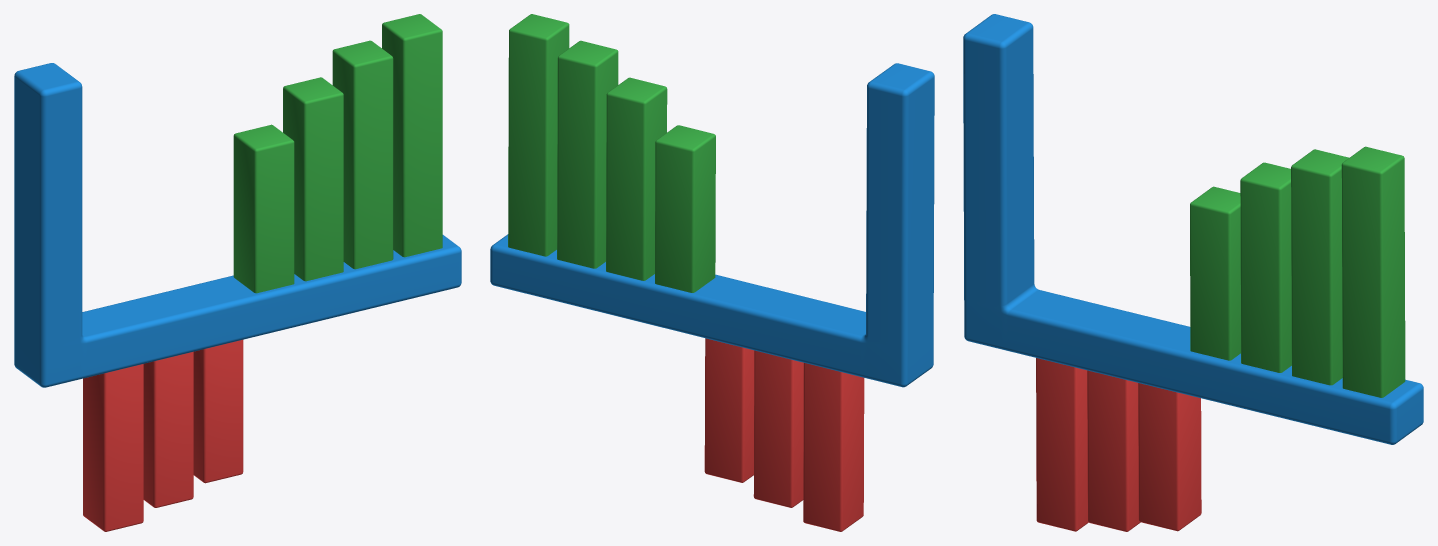
The model's file is graph3.glb.
The picture shows the model from 3 angles, left to right: view 1: azimuth 30°, elevation 25°; view 2: azimuth 150°, elevation 25°; view 3: azimuth 330°, elevation 25°; orthographic projection. The views are drawn at different scales.
Parts seen in each view (by area): view 1: 1.001, Cube.134, Cube.133, Cube.077, Cube.060, Cube.137, Cube.136, Cube.135; view 2: 1.001, Cube.134, Cube.133, Cube.077, Cube.137, Cube.060, Cube.136, Cube.135; view 3: 1.001, Cube.134, Cube.133, Cube.077, Cube.135, Cube.137, Cube.060, Cube.136.
Part boxes in pixels (x1=…): 1.001: x1=14, y1=63, x2=461, y2=387; Cube.134: x1=382, y1=14, x2=442, y2=257; Cube.133: x1=332, y1=40, x2=393, y2=269; Cube.077: x1=283, y1=77, x2=343, y2=281; Cube.060: x1=233, y1=124, x2=294, y2=293; Cube.137: x1=83, y1=364, x2=143, y2=531; Cube.136: x1=143, y1=351, x2=193, y2=507; Cube.135: x1=193, y1=339, x2=243, y2=483; 1.001: x1=490, y1=63, x2=934, y2=387; Cube.134: x1=508, y1=14, x2=569, y2=256; Cube.133: x1=557, y1=40, x2=618, y2=268; Cube.077: x1=606, y1=77, x2=667, y2=280; Cube.137: x1=803, y1=363, x2=864, y2=531; Cube.060: x1=655, y1=125, x2=715, y2=292; Cube.136: x1=753, y1=350, x2=803, y2=507; Cube.135: x1=704, y1=338, x2=754, y2=482; 1.001: x1=963, y1=14, x2=1423, y2=444; Cube.134: x1=1341, y1=146, x2=1405, y2=397; Cube.133: x1=1291, y1=149, x2=1348, y2=385; Cube.077: x1=1240, y1=162, x2=1291, y2=372; Cube.135: x1=1138, y1=383, x2=1201, y2=531; Cube.137: x1=1036, y1=358, x2=1088, y2=531; Cube.060: x1=1190, y1=186, x2=1240, y2=360; Cube.136: x1=1087, y1=370, x2=1140, y2=531.
Bounding box in the file's own units: 5.12 × 5.36 × 0.6664.
